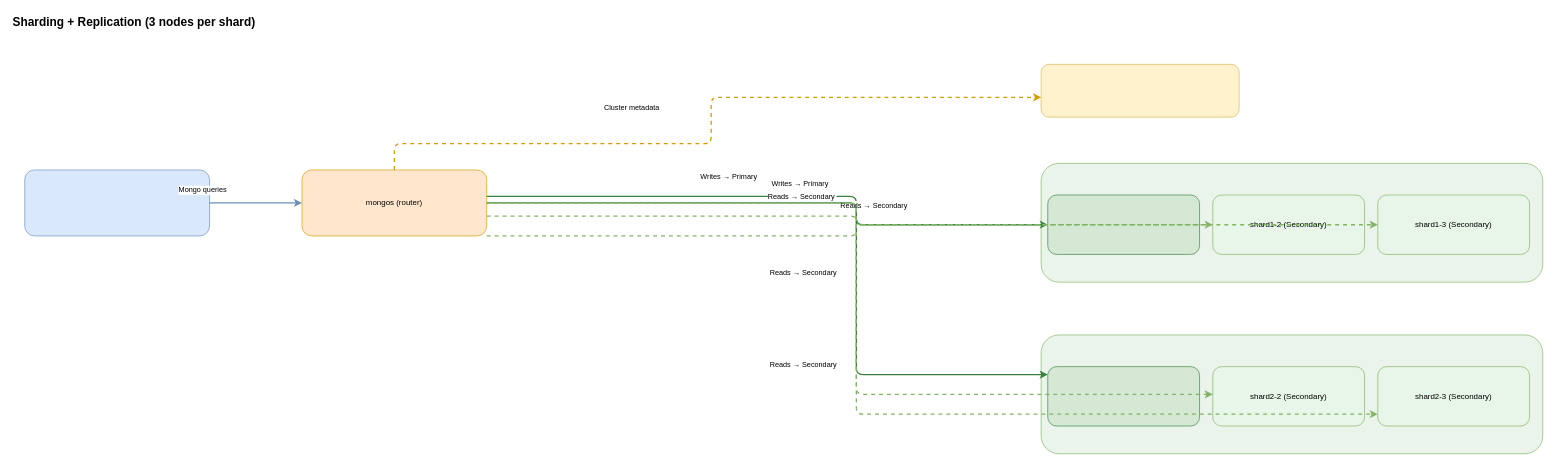
Image size: 1554x465. Some labels were removed from this diagram. The shapes that lost their labels are listed below. From the top down, each one's centre as x and y in pixels, then its label:
At pixel 1139 90: "configSrv".
At pixel 117 202: "pymongo-api".
At pixel 1123 224: "shard1-1 (Primary)".
At pixel 1123 396: "shard2-1 (Primary)".
